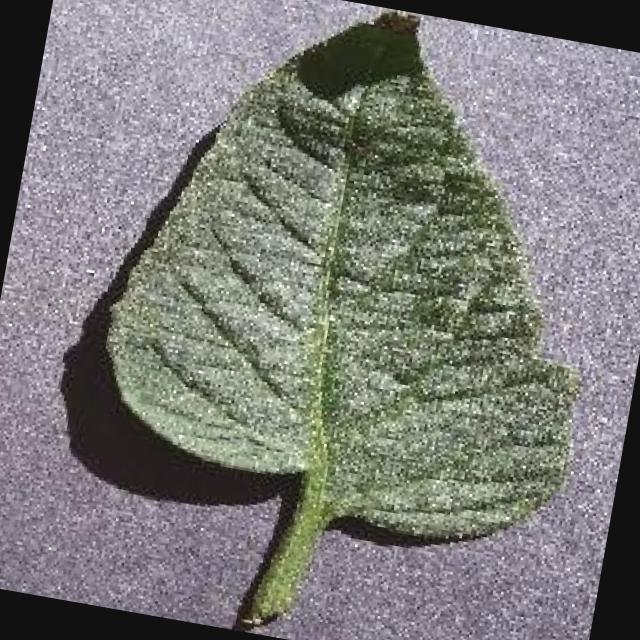healthy: (105, 9, 582, 616)
